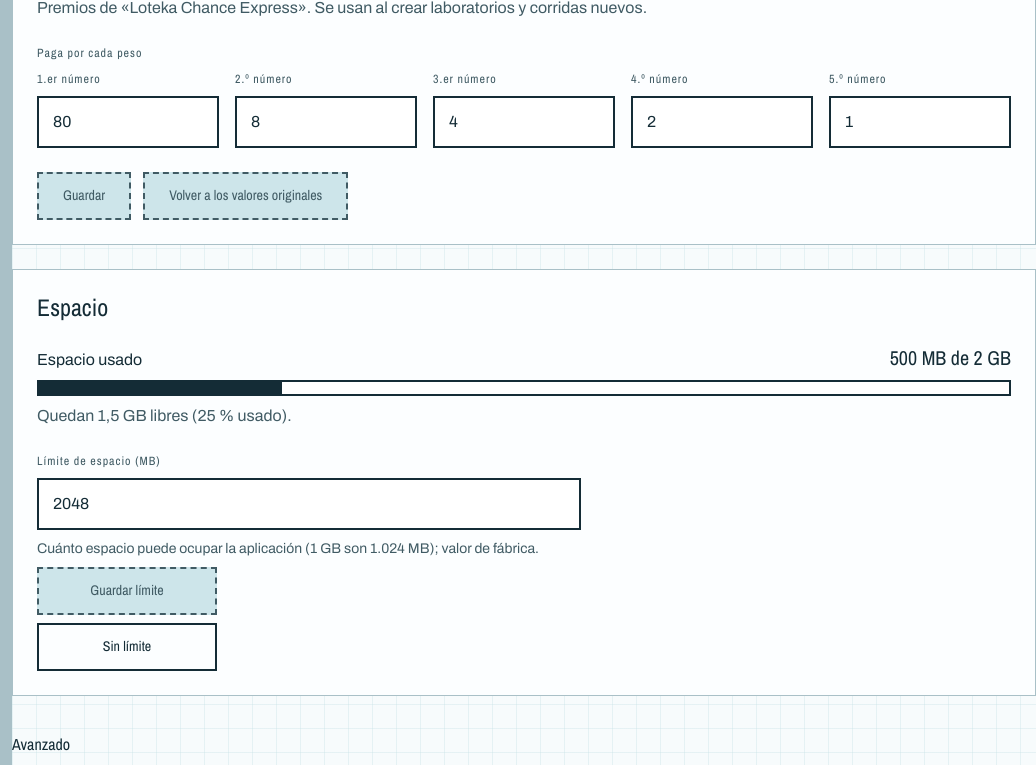
Test case: settings page › updates displayed quota and draft from a successful save; preserves an edited draft after 409
(page scrolled)
Replace the text in the field labelled "Límite de espacio (MB)" with "3000" at (309, 504), box x1=37 y1=478 x2=581 y2=530
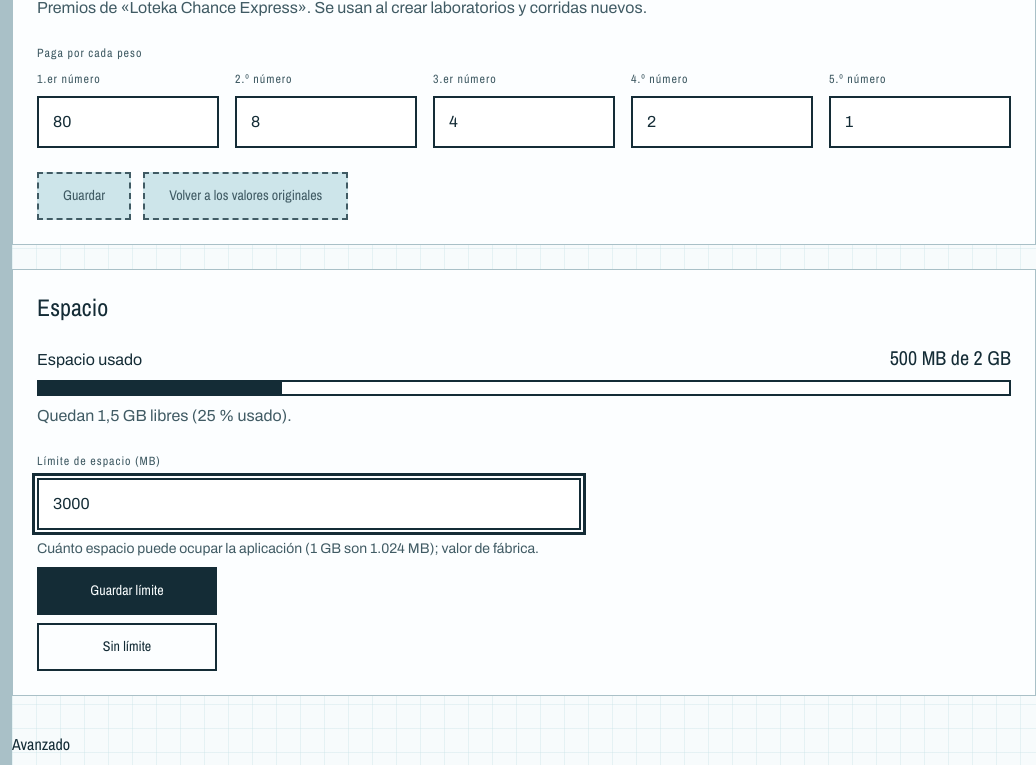
Click the button "Guardar límite".
click(127, 591)  # box x1=37 y1=567 x2=217 y2=615
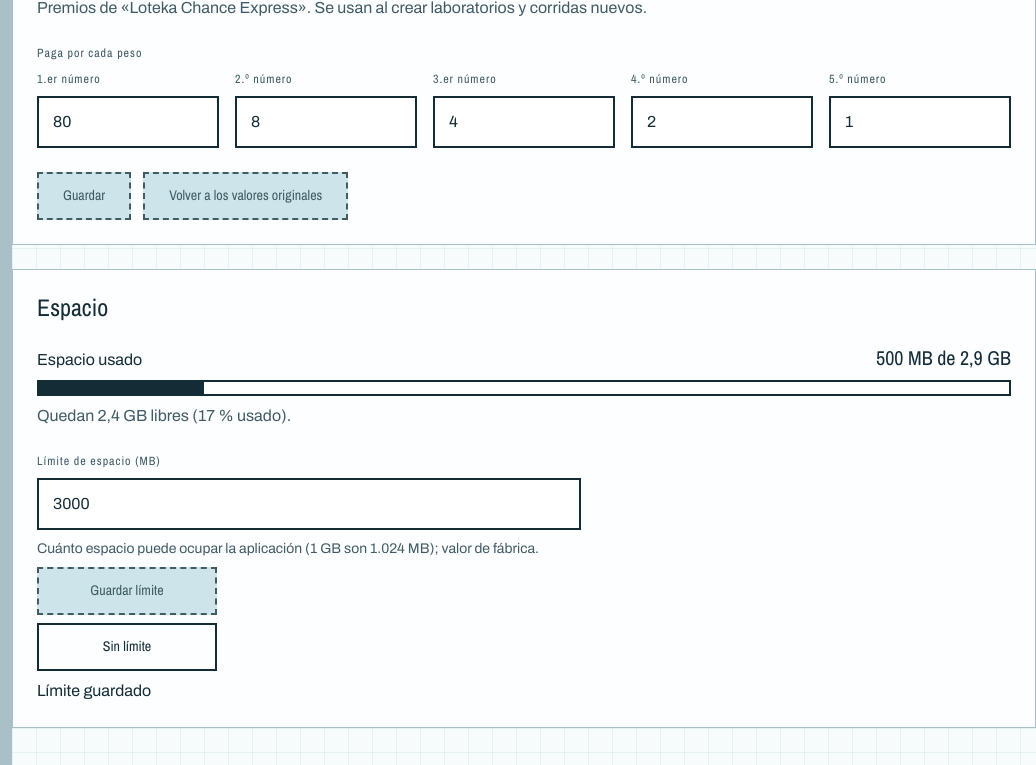
expect the text "Límite guardado" is shown: met, box x1=37 y1=679 x2=151 y2=703
Replace the text in the field labelled "Límite de espacio (MB)" with "800" at (309, 504), box x1=37 y1=478 x2=581 y2=530
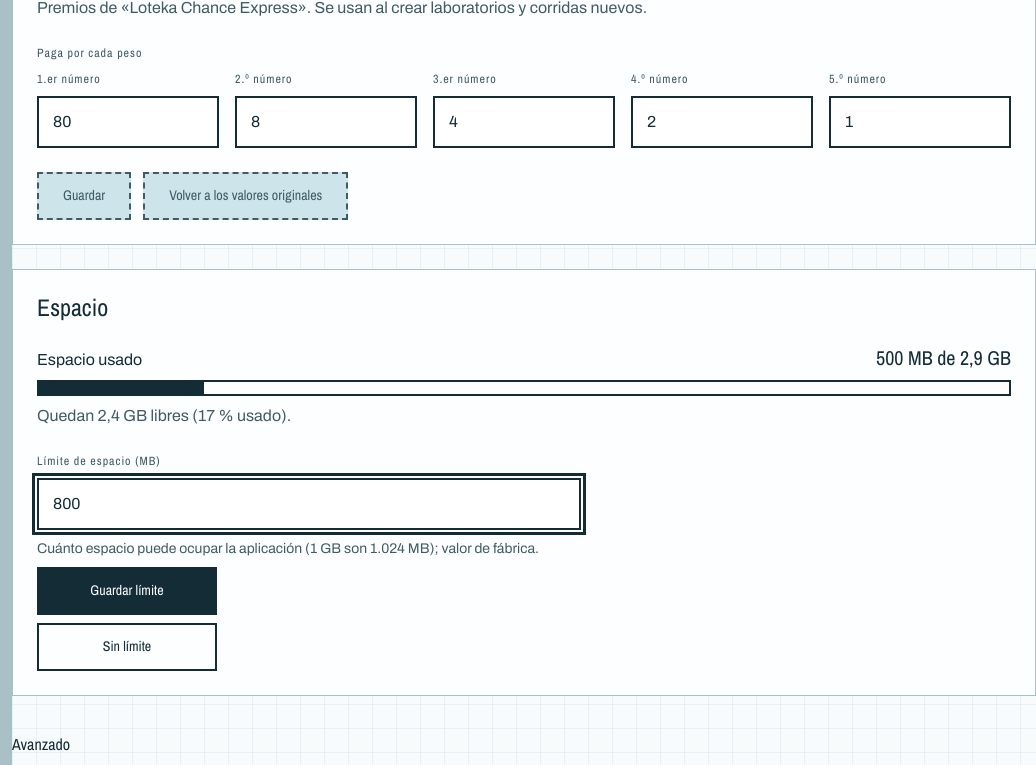
Click the button "Guardar límite".
click(127, 591)  # box x1=37 y1=567 x2=217 y2=615
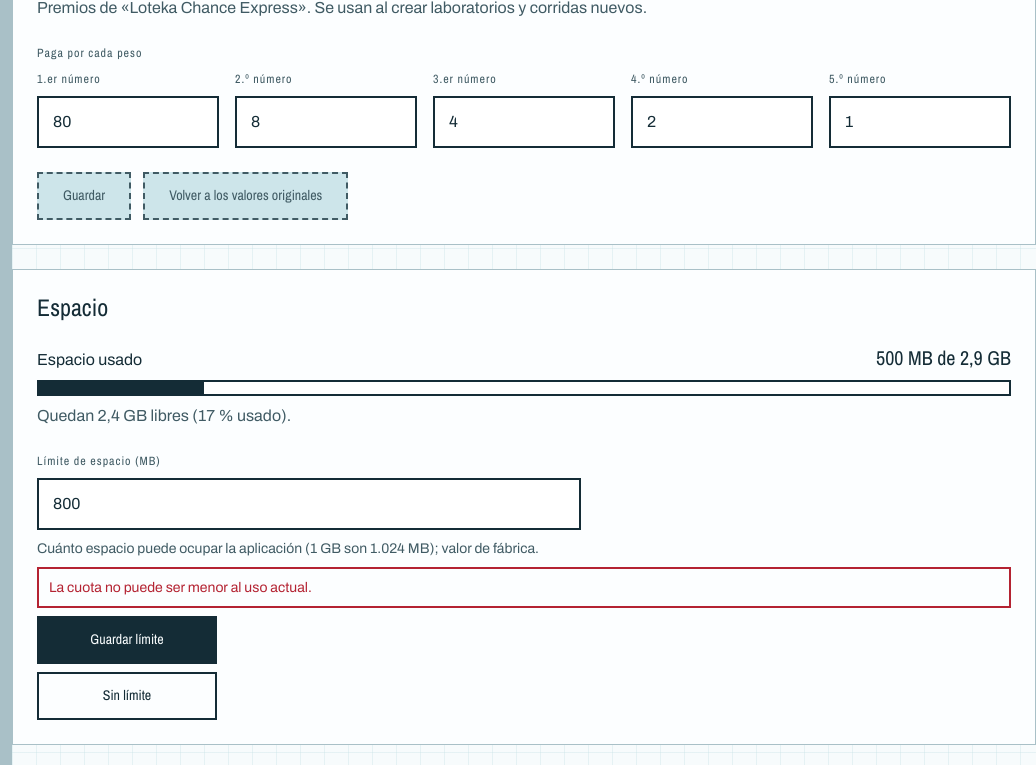
expect the message reads "La cuota no puede ser menor al uso actual.": met, box x1=49 y1=580 x2=312 y2=595
